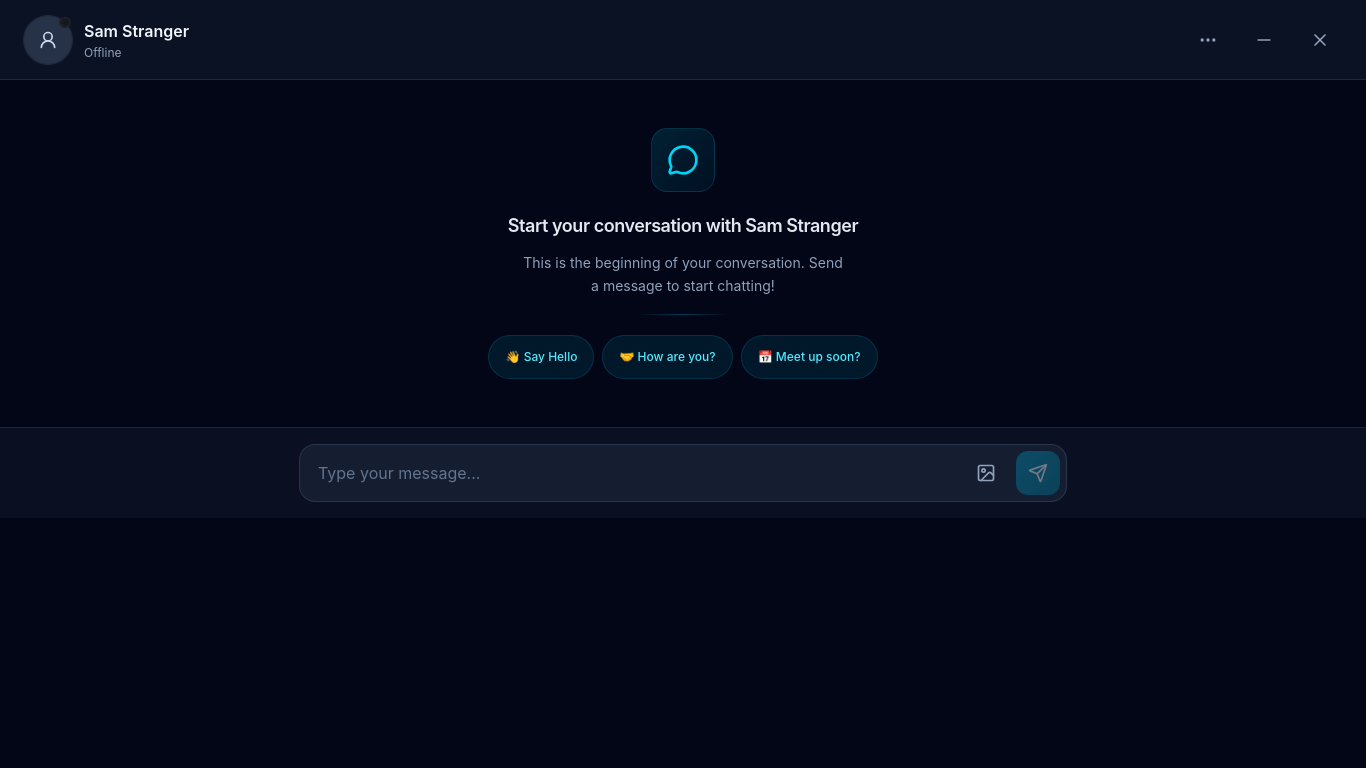
Test: Conversation menu and blocked conversations › blocks after confirming and swaps the message box for an unblock notice
Click the button named "More actions for Sam Stranger". click: click(1208, 40)
box: [1186,18,1230,62]
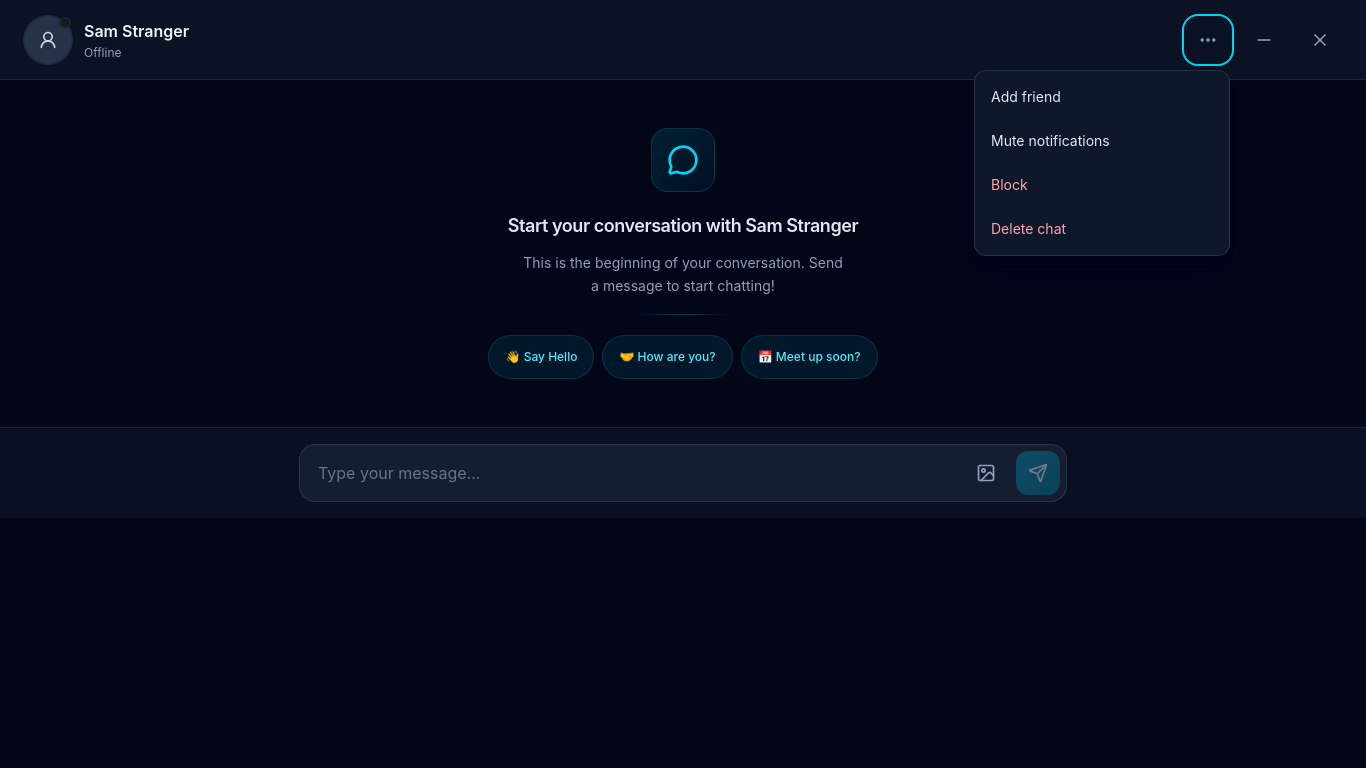
Expected: the field labelled "message" is shown, [306,450,956,494]
Click the button "Block". click: click(1102, 184)
box: [979,162,1225,206]
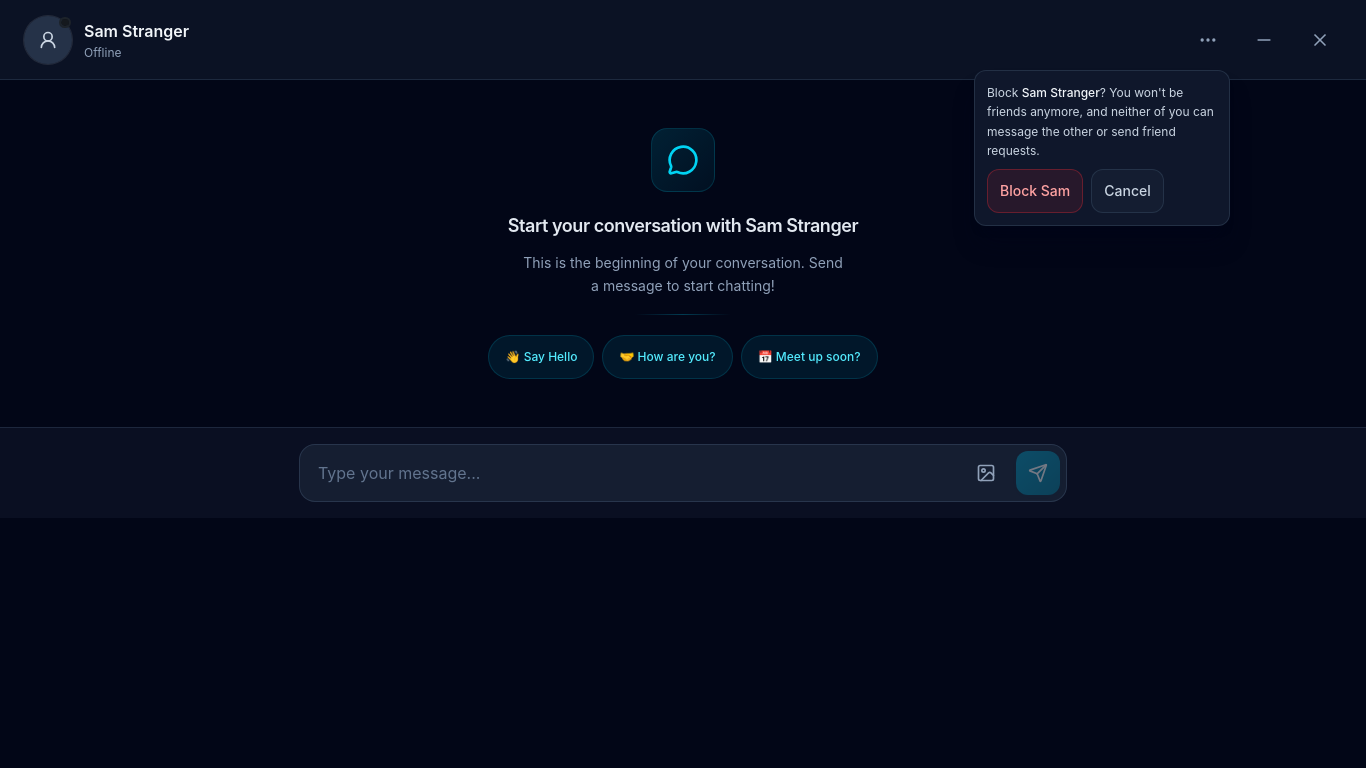
Click the button "Block Sam". click: click(1035, 190)
box: [987,168,1083,212]
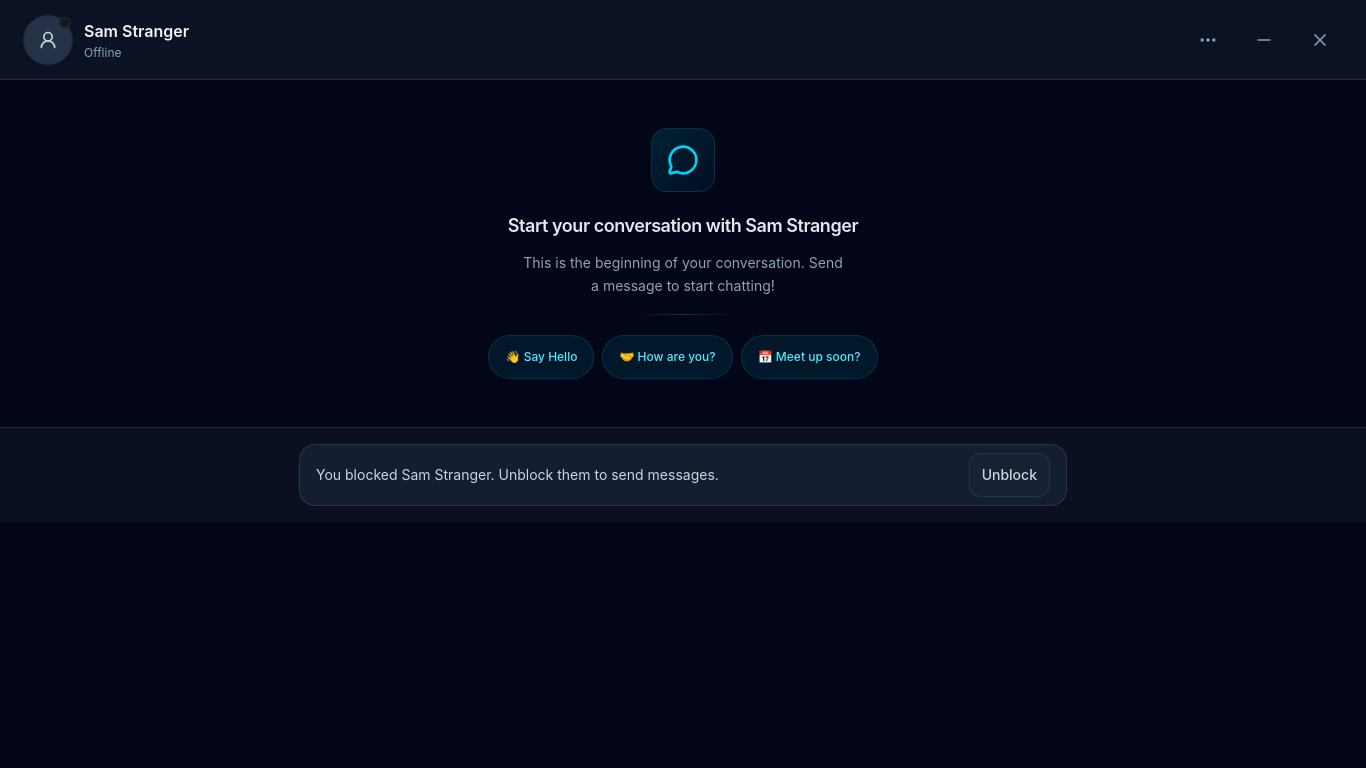
Now the text "You blocked Sam Stranger. Unblock them to send messages." is shown, box [316,464,719,484]
Click the button "Unblock". click: click(1009, 474)
box: [969,452,1050,496]
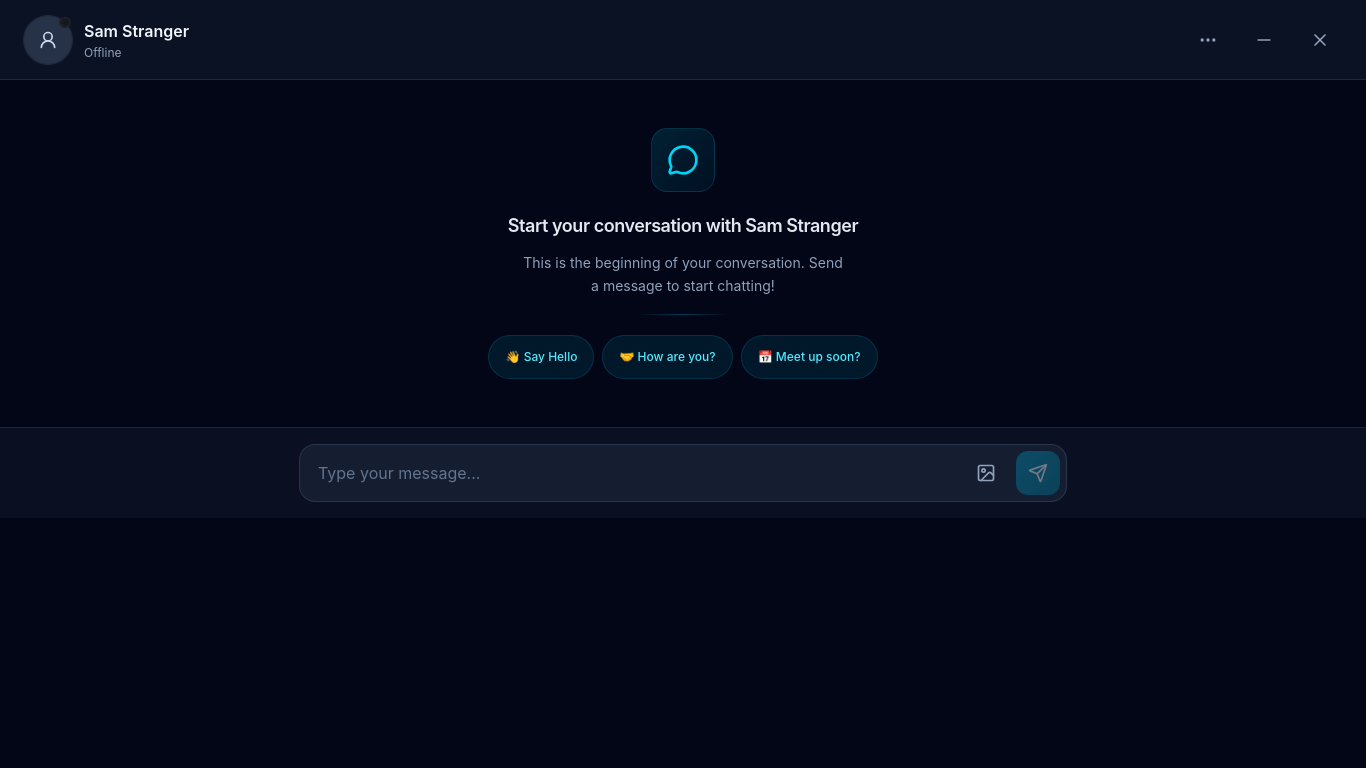
Now the field labelled "message" is shown, box [306,450,956,494]
